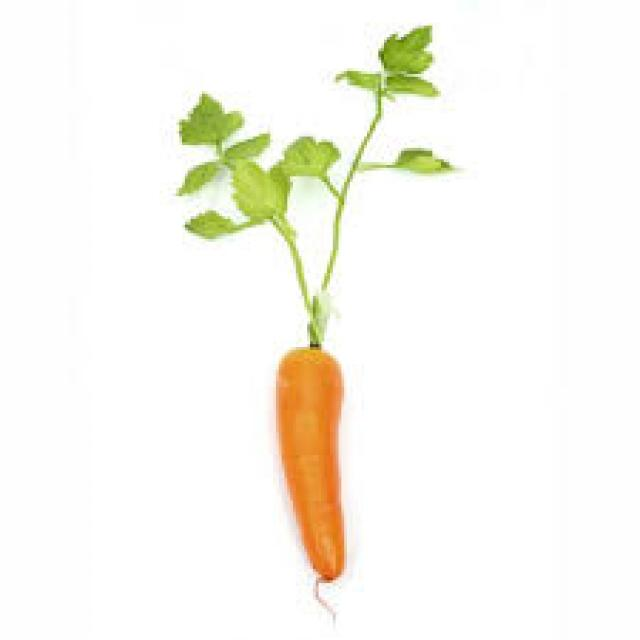organic waste: (176, 23, 458, 344), (276, 344, 344, 580)
